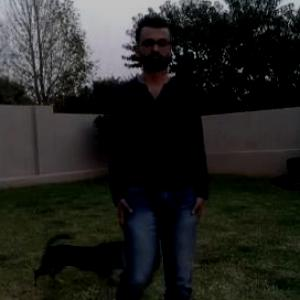follow: (100, 22, 208, 299)
